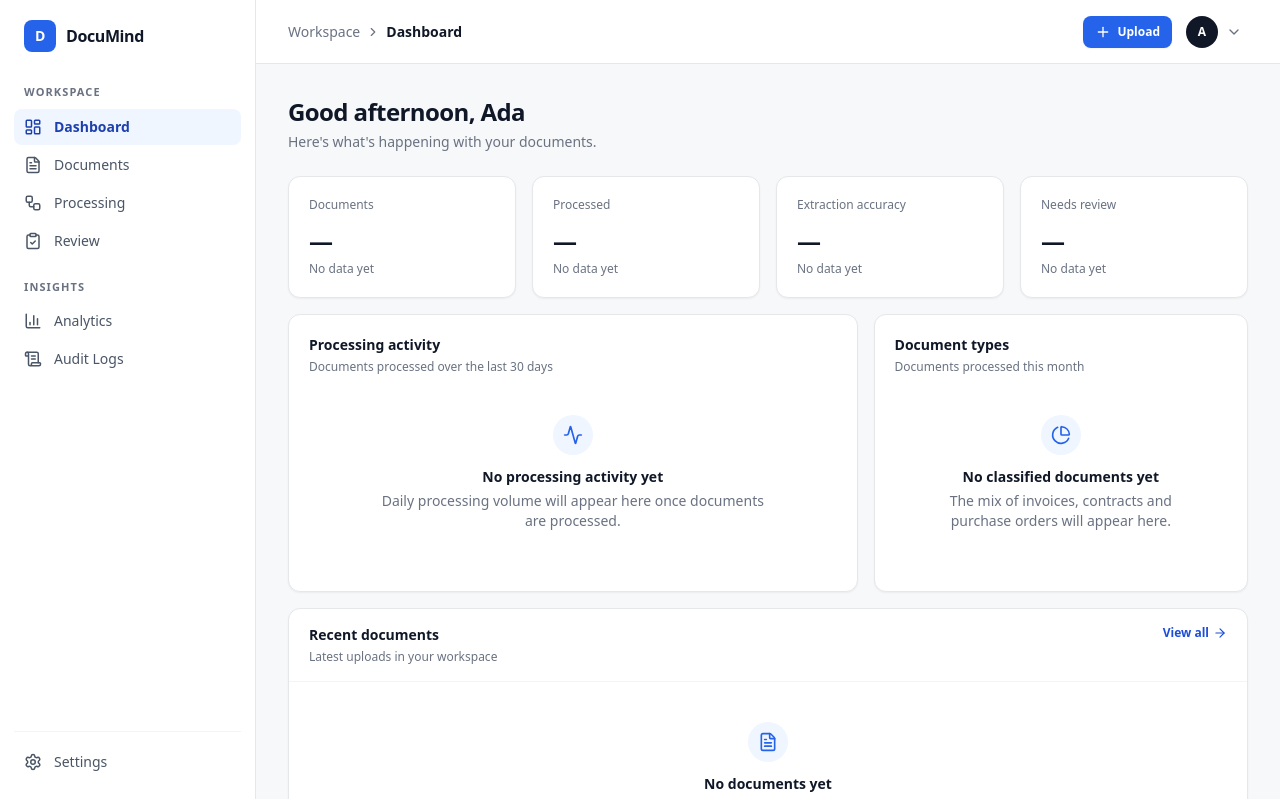
Test: App routing and authentication flows › returns to the login page after signing out
Click the button named "Account".
click(1216, 32)  # box top-left (1184, 14), bottom-right (1248, 50)
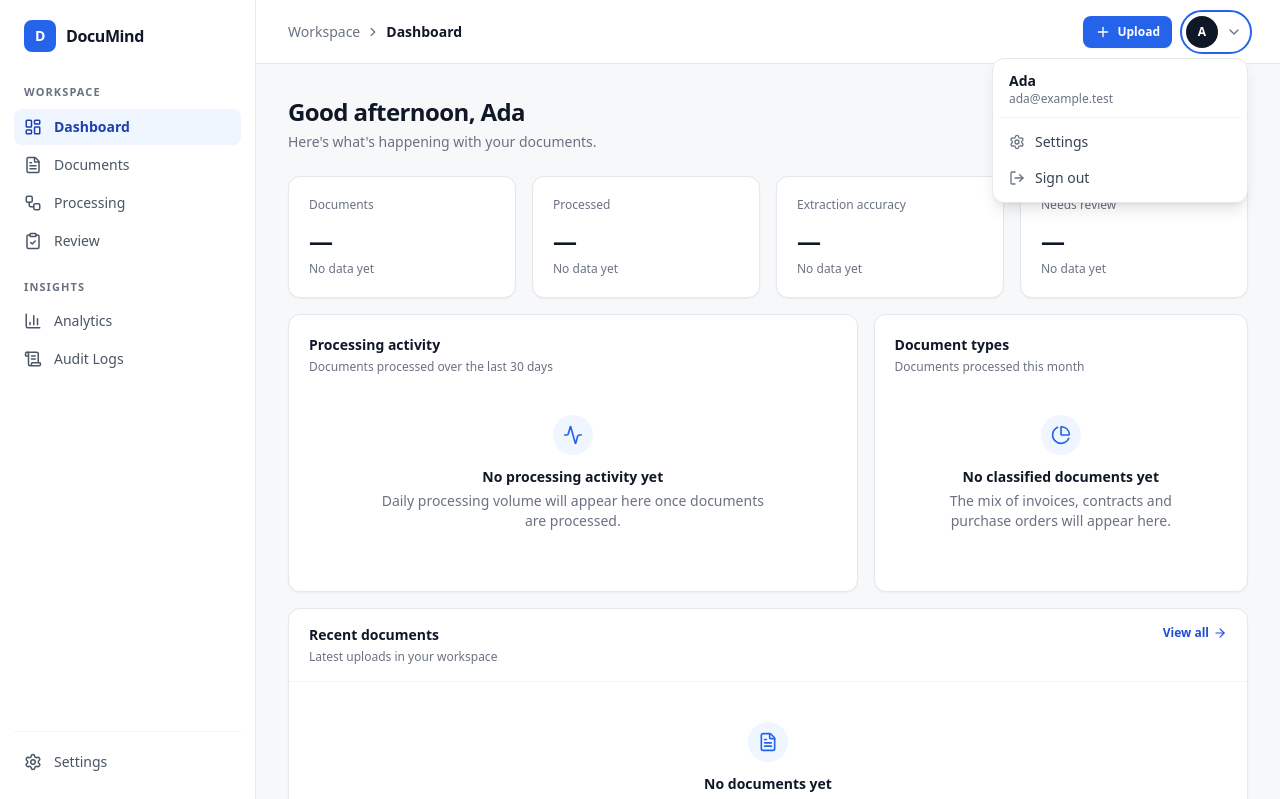
Click the button "Sign out".
click(1120, 178)  # box top-left (999, 160), bottom-right (1241, 196)
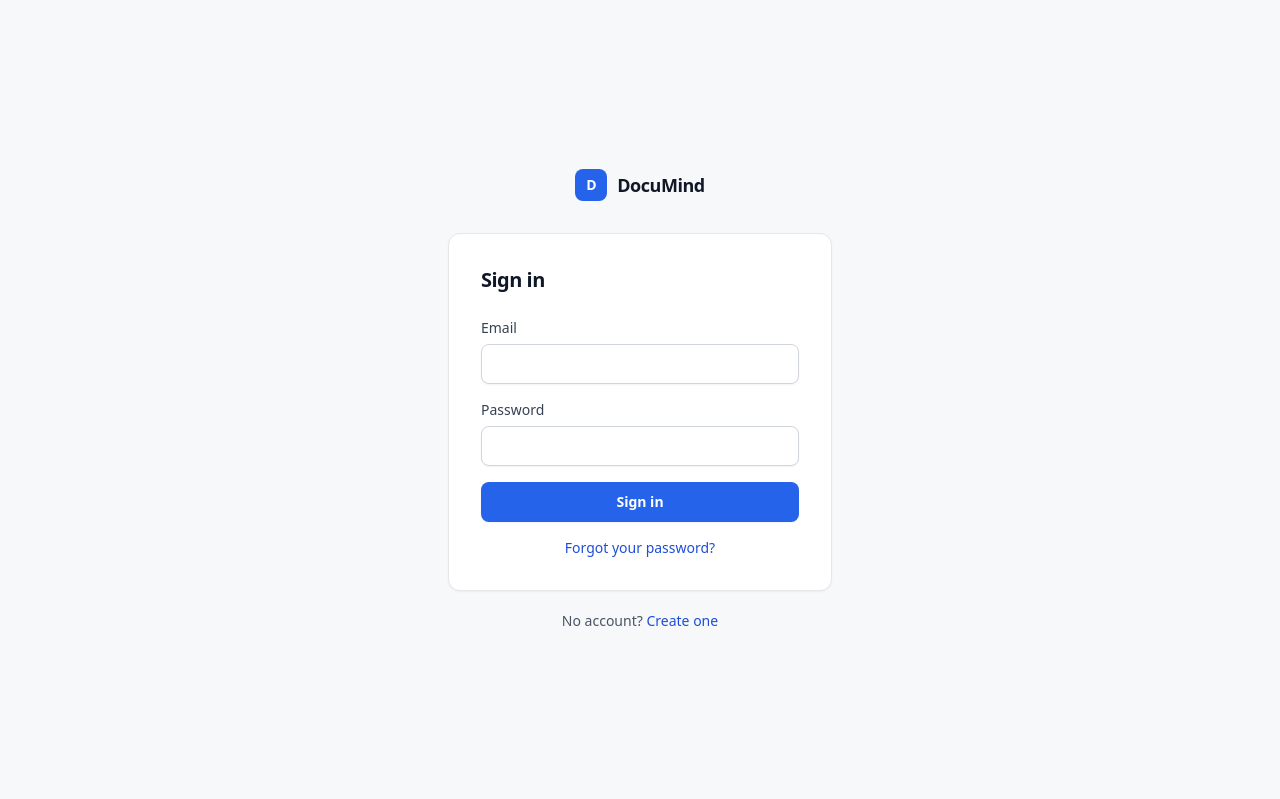
Result: the heading "Sign in" is shown at top-left (481, 266), bottom-right (545, 293)
